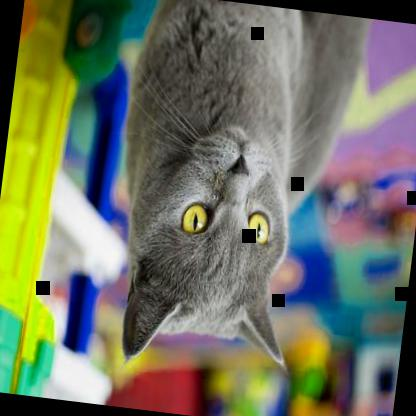cat: (92, 0, 370, 386)
